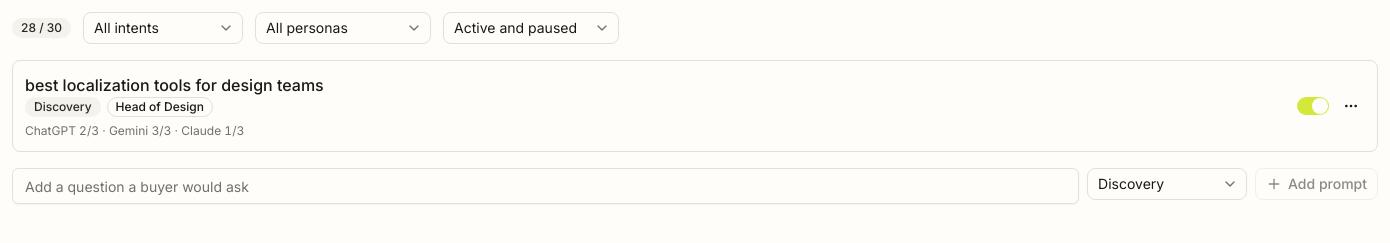
Test case: PromptsEditor › offers Delete only when the prompt has never run, and says why when it has not
Click the button named "more actions" at (1351, 106), box [1337, 92, 1365, 120]
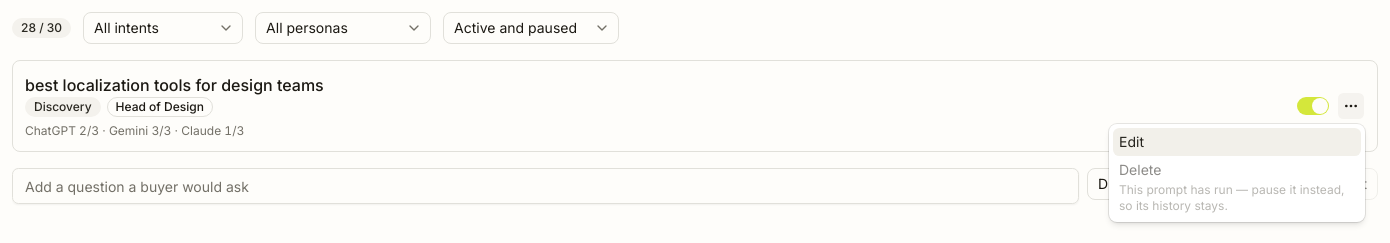
Result: the text "pause it instead" is shown at [1119, 182, 1344, 213]
